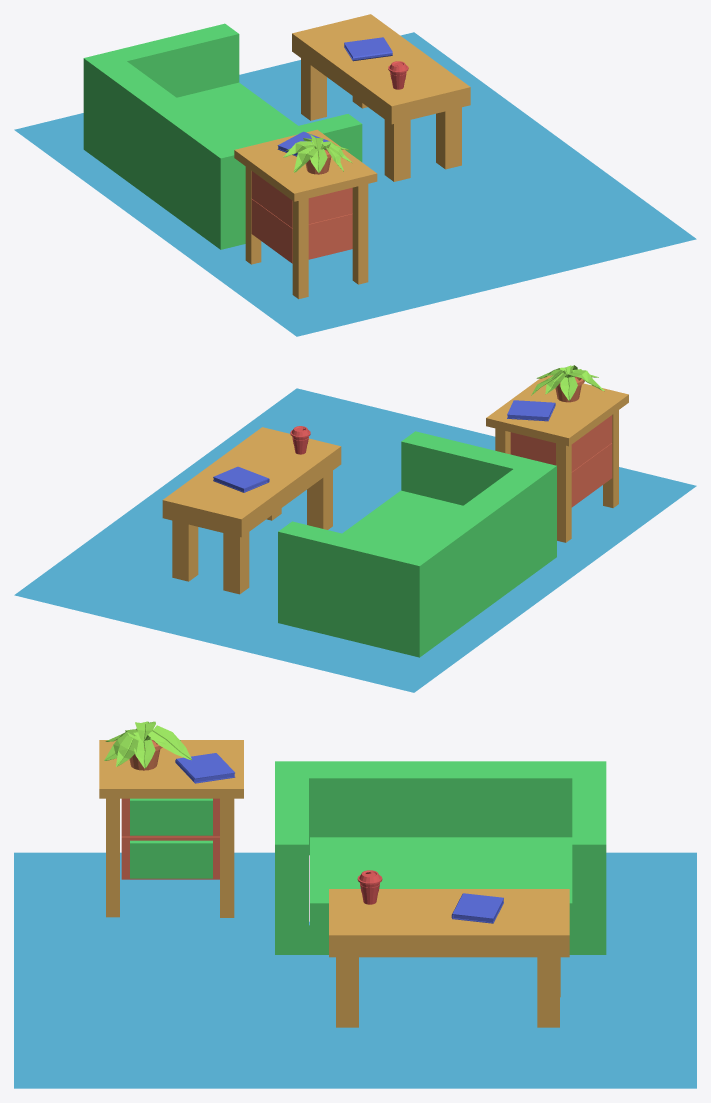
The model's file is room8.glb.
3 views of the same model, one above another, from view 1: azimuth 30°, elevation 25°; view 2: azimuth 150°, elevation 25°; view 3: azimuth 270°, elevation 25° (orthographic). The views are drawn at different scales.
Visible parts, largest first — view 1: 平面.002, 平面.027, 平面.030, 平面, 平面.033, 平面.001, 平面.028, 平面.038, 平面.035, 平面.051; view 2: 平面.002, 平面.027, 平面.030, 平面.033, 平面, 平面.028, 平面.001, 平面.035, 平面.038, 平面.051, 平面.050; view 3: 平面.002, 平面.027, 平面.030, 平面.028, 平面.033, 平面.001, 平面, 平面.039, 平面.036, 平面.038, 平面.050, 平面.051 (+3 smaller).
Part boxes in pixels (<box>): 平面.002: <box>14,32,696,336</box>; 平面.027: <box>83,23,362,249</box>; 平面.030: <box>292,14,470,124</box>; 平面: <box>301,58,461,181</box>; 平面.033: <box>234,129,377,201</box>; 平面.001: <box>245,166,368,299</box>; 平面.028: <box>177,82,297,140</box>; 平面.038: <box>251,199,352,263</box>; 平面.035: <box>251,171,352,228</box>; 平面.051: <box>344,37,392,61</box>; 平面.002: <box>14,388,696,692</box>; 平面.027: <box>278,431,556,657</box>; 平面.030: <box>162,427,341,537</box>; 平面.033: <box>486,375,628,446</box>; 平面: <box>172,471,332,594</box>; 平面.028: <box>342,490,462,548</box>; 平面.001: <box>495,410,618,542</box>; 平面.035: <box>510,415,612,471</box>; 平面.038: <box>571,443,612,507</box>; 平面.051: <box>213,466,269,492</box>; 平面.050: <box>507,400,555,421</box>; 平面.002: <box>14,852,696,1088</box>; 平面.027: <box>275,761,606,954</box>; 平面.030: <box>329,889,569,957</box>; 平面.028: <box>310,837,572,925</box>; 平面.033: <box>99,740,243,798</box>; 平面.001: <box>106,798,234,917</box>; 平面: <box>336,957,560,1027</box>; 平面.039: <box>130,840,212,878</box>; 平面.036: <box>130,798,212,835</box>; 平面.038: <box>121,836,219,879</box>; 平面.050: <box>175,753,235,783</box>; 平面.051: <box>451,893,503,923</box>.
Size of the model in its own units: 2 by 0.6784 by 2.45.
